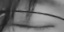LeftEyeFatigue: (2, 13, 56, 32)
